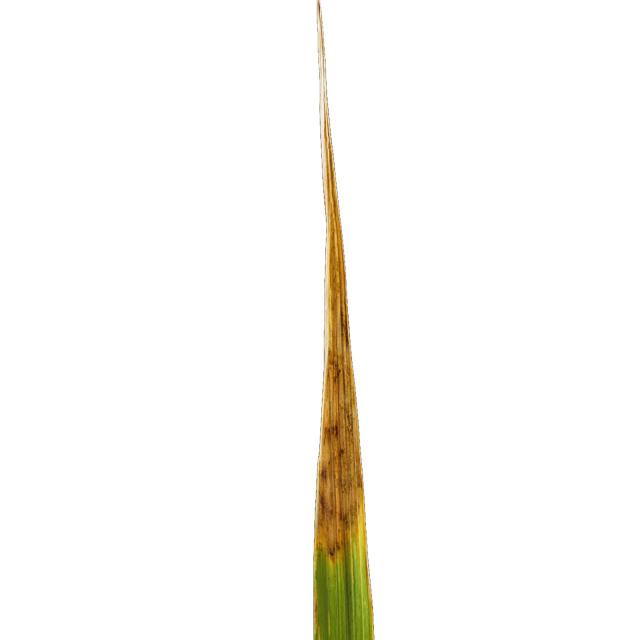Leaf scald: (234, 0, 493, 630)
